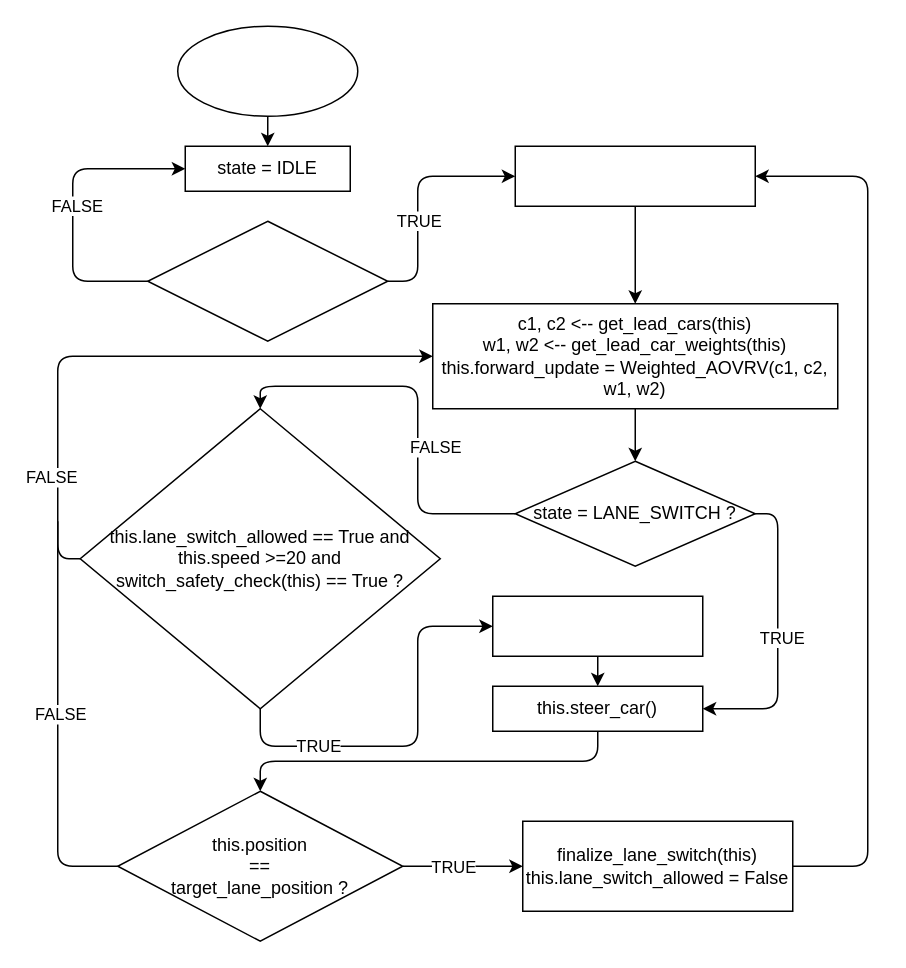
This 906x968 diagram has some shape labels left out. The shapes that lost their labels are listed below. From the top down, each one's centre as x and y in pixels, then its label:
(267,70): START
(634,175): state = STRAIGHT_DRIVE
(267,280): this.allowStart = true ?
(597,625): state = LANE_SWITCH
